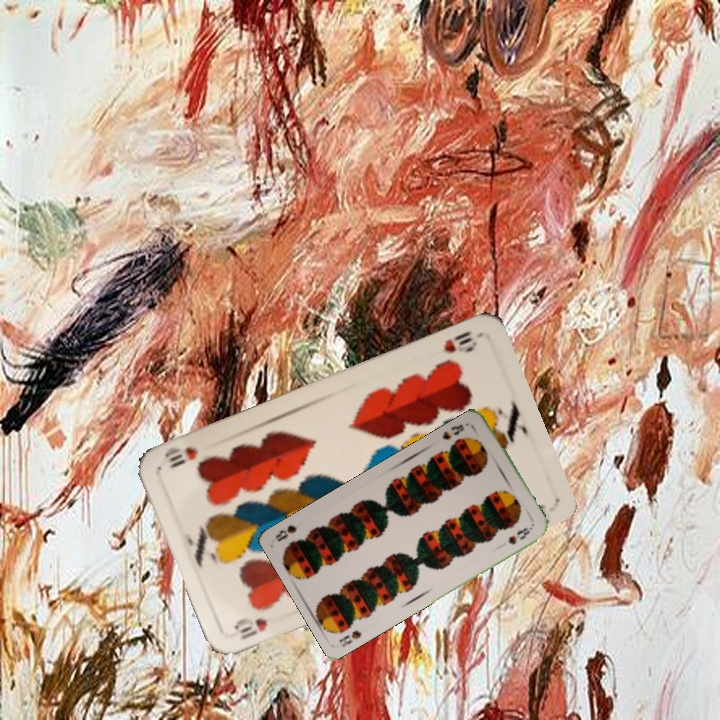H10: (439, 326, 483, 356), (230, 614, 270, 642)
S8: (335, 626, 364, 650), (438, 420, 467, 442)
